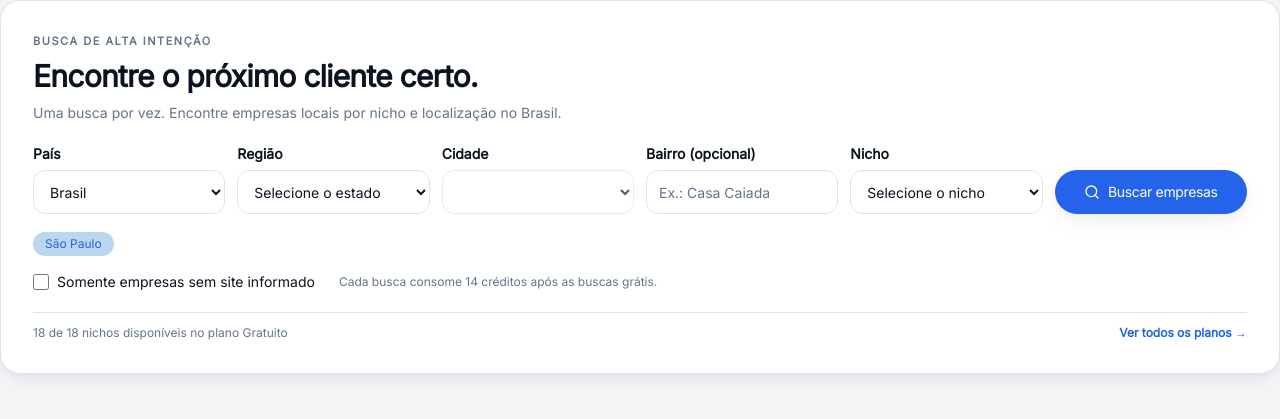
Test: Prospecting from client map › rejects an unvalidated initial city when cached options mismatch or fail (error=false)
Select "RJ — Rio de Janeiro" in the dropdown labelled "Região" at [333, 192], box [237,170,430,214]
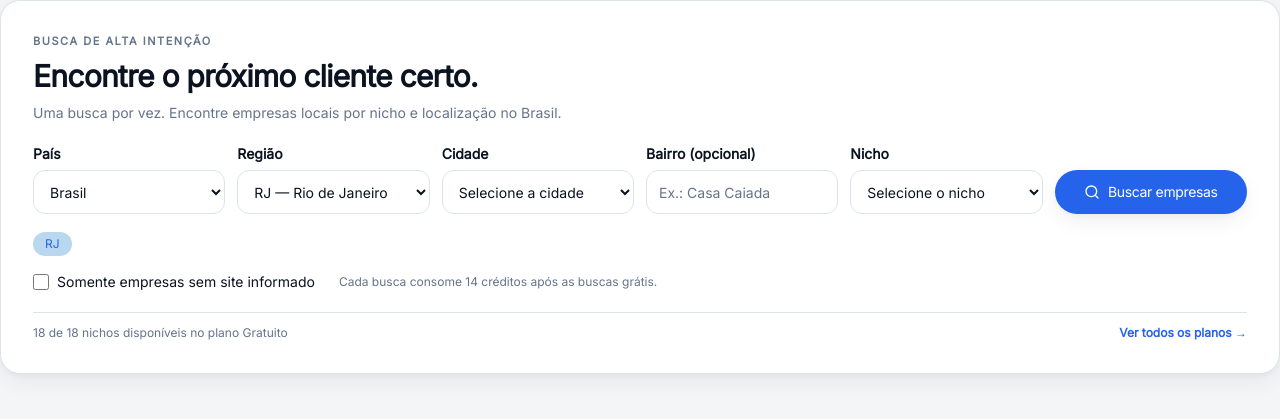
Select "Restaurante" in the dropdown labelled "Nicho" at [946, 192], box [850,170,1043,214]
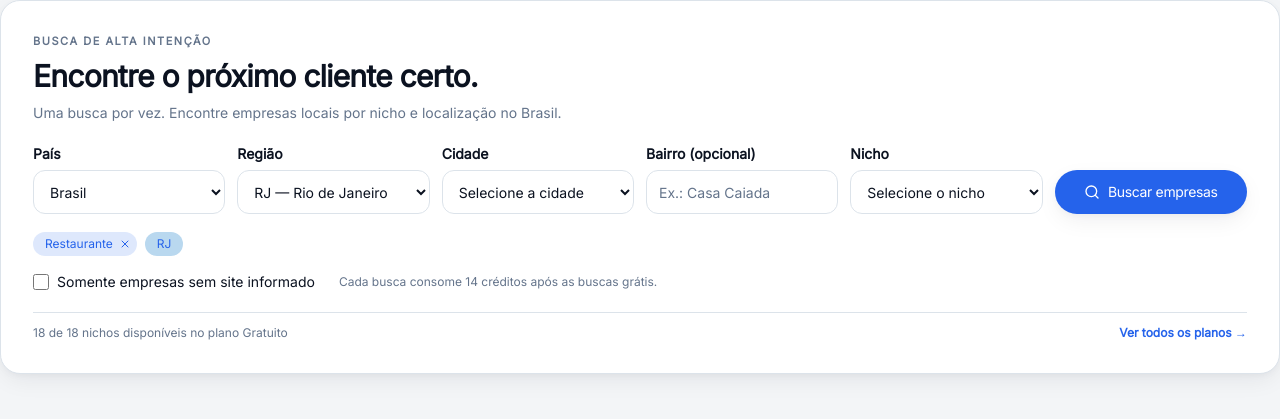
Click the button "Buscar empresas" at [1151, 192], box [1055,170,1247,214]
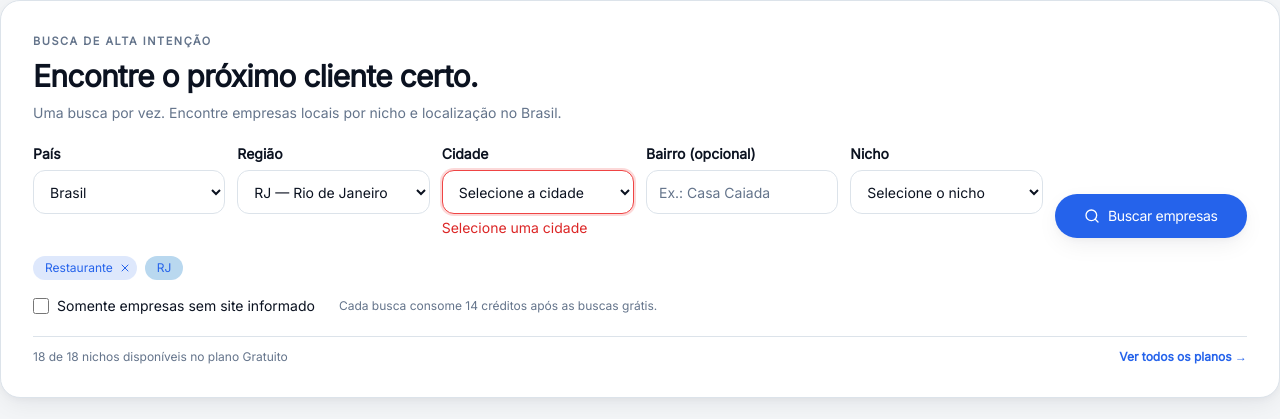
Check: the text "Selecione uma cidade" is shown, box [442,219,588,236]
